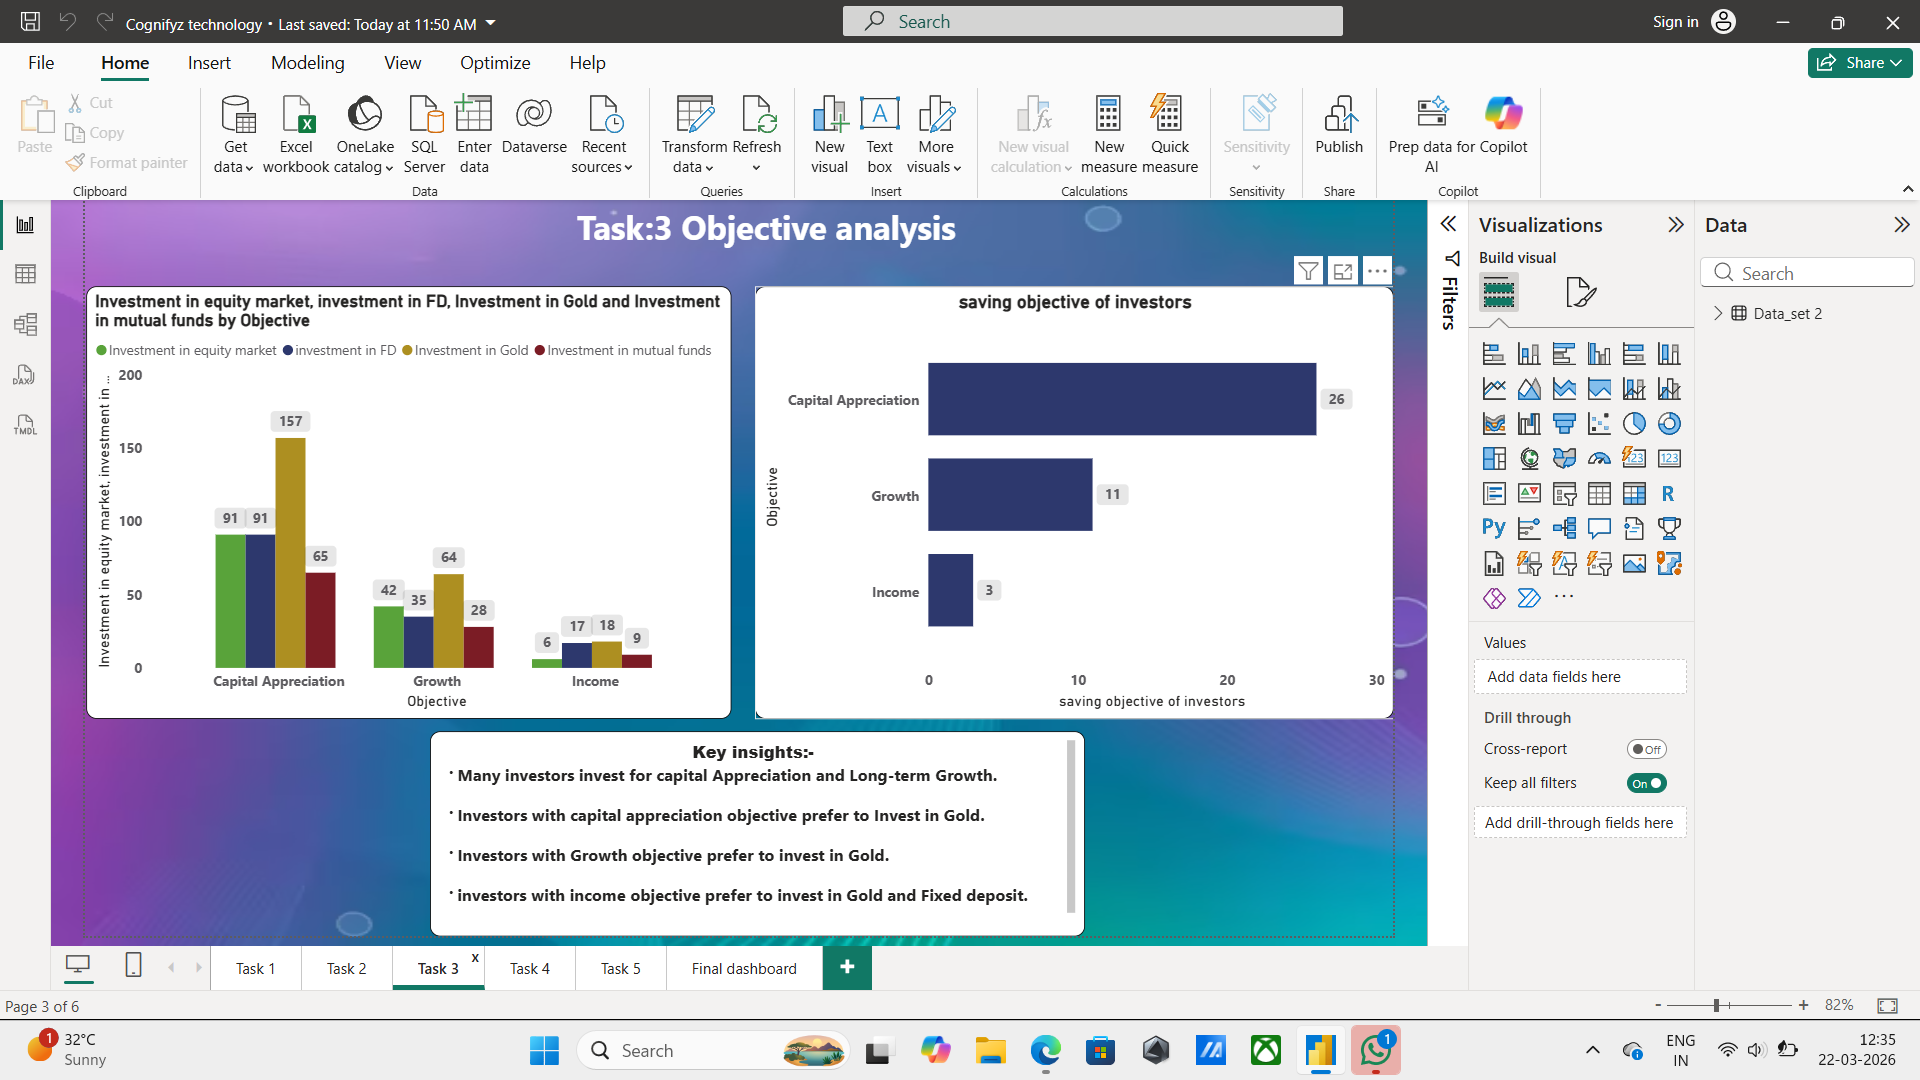

The page's visual inventory and layout, read from the dashboard file:
{"tool":"powerbi","page":{"name":"Task 3","canvas":[1280,720],"ordinal":2},"visuals":[{"type":"clusteredColumnChart","fields":{"Category":["Data_set 2.Objective"],"Y":["Sum(Data_set 2.Equity_Market)","Sum(Data_set 2.Fixed_Deposits)","Sum(Data_set 2.Gold)","Sum(Data_set 2.Mutual_Funds)"]},"box":[1.2,84.4,631,423.1],"z":0},{"type":"barChart","title":"saving objective of investors","fields":{"Category":["Data_set 2.Objective"],"Y":["CountNonNull(Data_set 2.Investment_Avenues)"]},"box":[655.4,84.4,624.9,423.1],"z":1000},{"type":"textbox","box":[337.5,0,588.2,95.4],"z":2000},{"type":"textbox","box":[337.5,519.7,640.8,200.5],"z":3000}]}

Visuals, with their boxes on the page's 1280x720 design canvas (x1, y1, x2, y2). These are canvas units, not pixel positions in the 1920x1080 screenshot, which may show the page scaled, cropped or inside an application window:
clusteredColumnChart - Data_set 2.Objective x Sum(Data_set 2.Equity_Market): (1,84,632,508)
"saving objective of investors" barChart: (655,84,1280,508)
textbox: (338,0,926,95)
textbox: (338,520,978,720)
